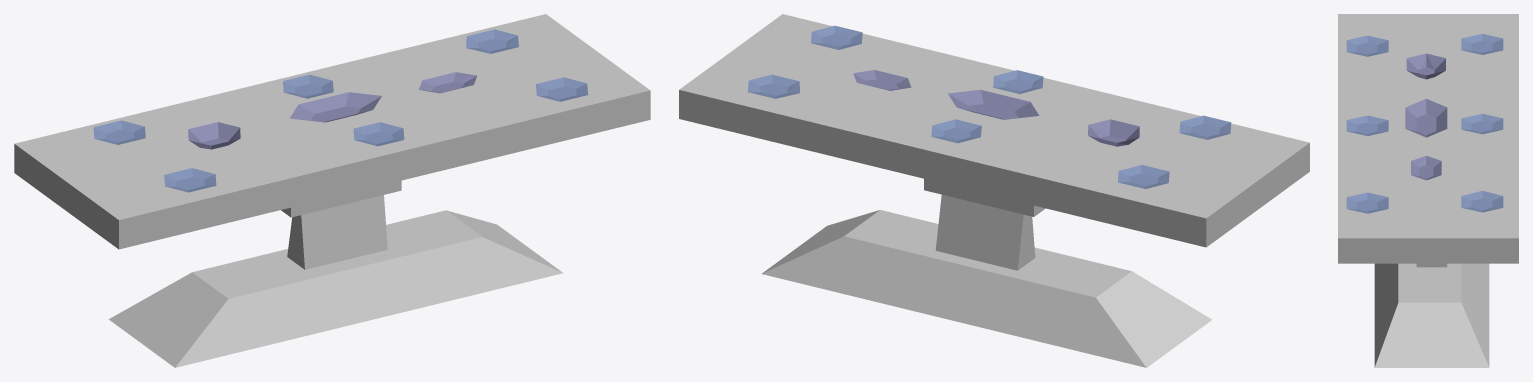
Rendered from model_loc_603_8.obj.
3 renders of one model, left to right at view 1: azimuth 30°, elevation 25°; view 2: azimuth 150°, elevation 25°; view 3: azimuth 270°, elevation 25°, orthographic. The views are drawn at different scales.
Visible parts, largest first — view 1: 1197; view 2: 1197; view 3: 1197.
Part boxes in pixels (x1=…): 1197: x1=14, y1=14, x2=650, y2=367; 1197: x1=679, y1=14, x2=1309, y2=367; 1197: x1=1338, y1=14, x2=1518, y2=367.
Bounding box in the file's own units: 379 × 133 × 129.
